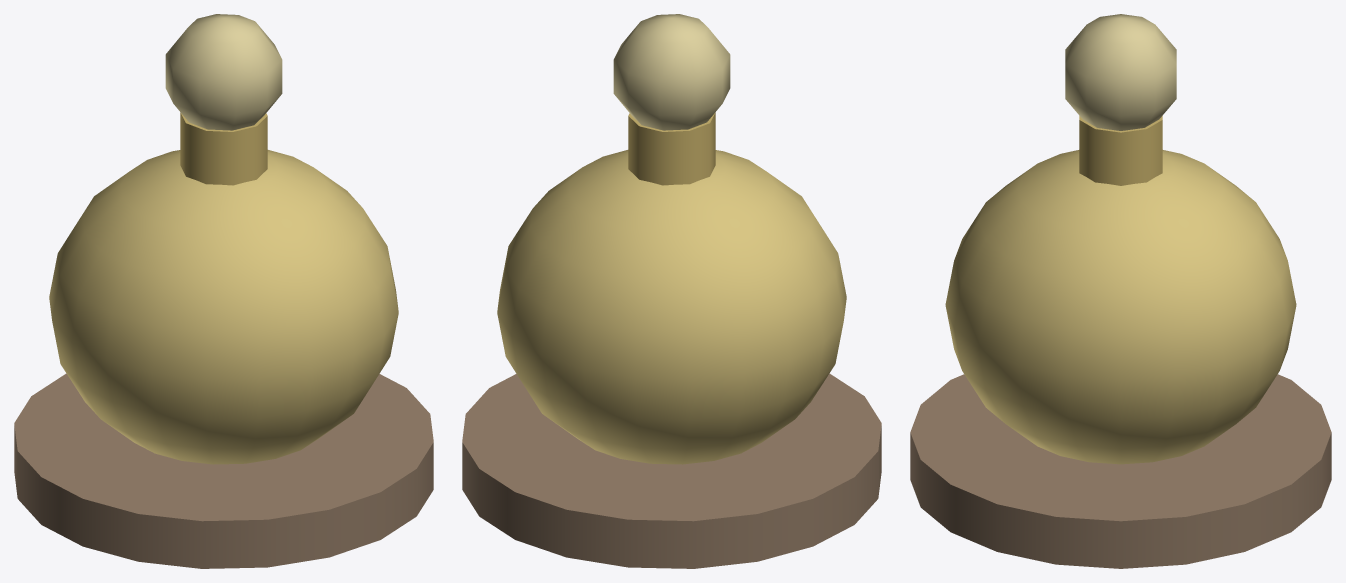
The model's file is bell.glb.
3 views of the same model, side by side, from view 1: azimuth 30°, elevation 25°; view 2: azimuth 150°, elevation 25°; view 3: azimuth 270°, elevation 25° (orthographic).
Parts seen in each view (by area): view 1: bell; view 2: bell; view 3: bell.
Part boxes in pixels (left/top/right/bottom): bell: left=14, top=14, right=433, bottom=568; bell: left=462, top=14, right=881, bottom=568; bell: left=910, top=14, right=1331, bottom=568.
Bounding box in the file's own units: 0.3 × 0.3625 × 0.3.
